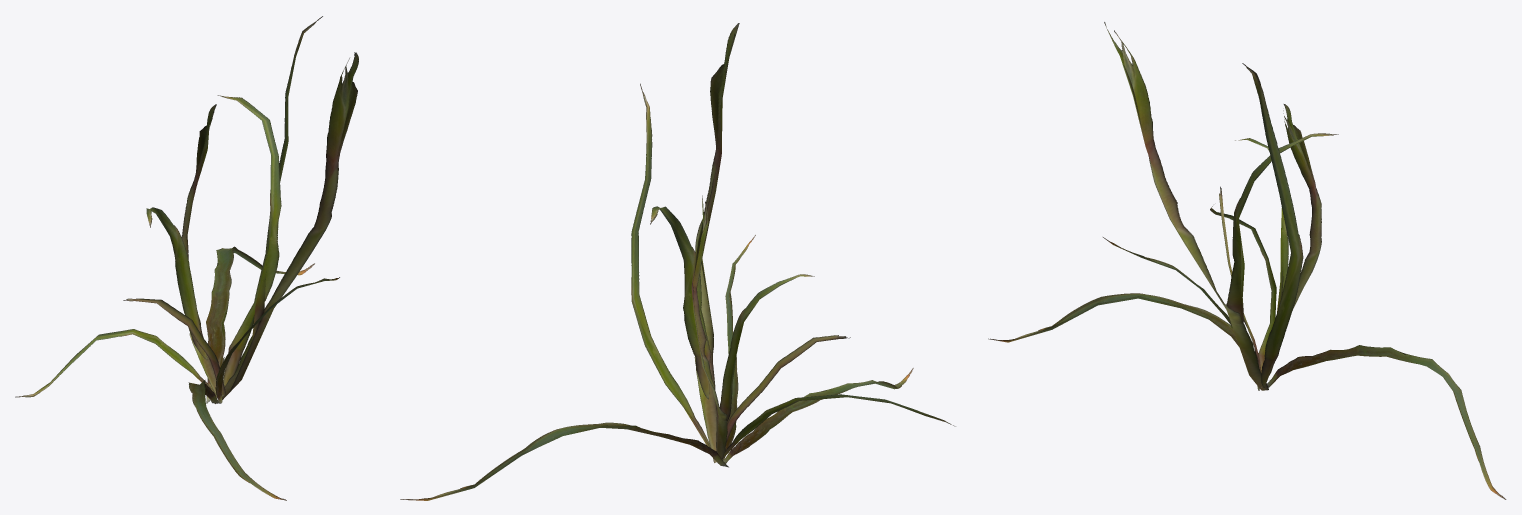
File: flower_empodium_04.glb
3 views of the same model, side by side, from view 1: azimuth 30°, elevation 25°; view 2: azimuth 150°, elevation 25°; view 3: azimuth 270°, elevation 25° (orthographic). The views are drawn at different scales.
Visible parts, largest first — view 1: flower_empodium; view 2: flower_empodium; view 3: flower_empodium.
Boxes of the visible parts, x1,y1,x2,y2 form: flower_empodium: (15, 16, 358, 500); flower_empodium: (400, 23, 955, 500); flower_empodium: (988, 22, 1506, 499).
Size of the model in its own units: 0.1941 by 0.168 by 0.1943.
1 material, 1 textured.
